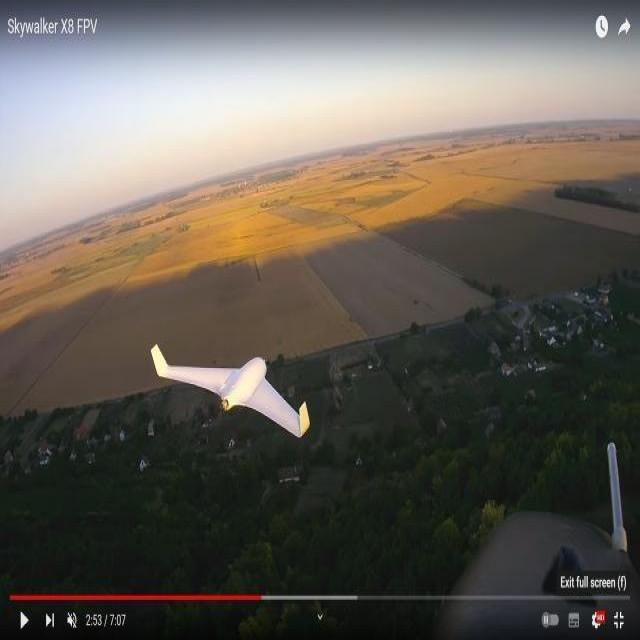Airplane: (147, 336, 319, 442)
